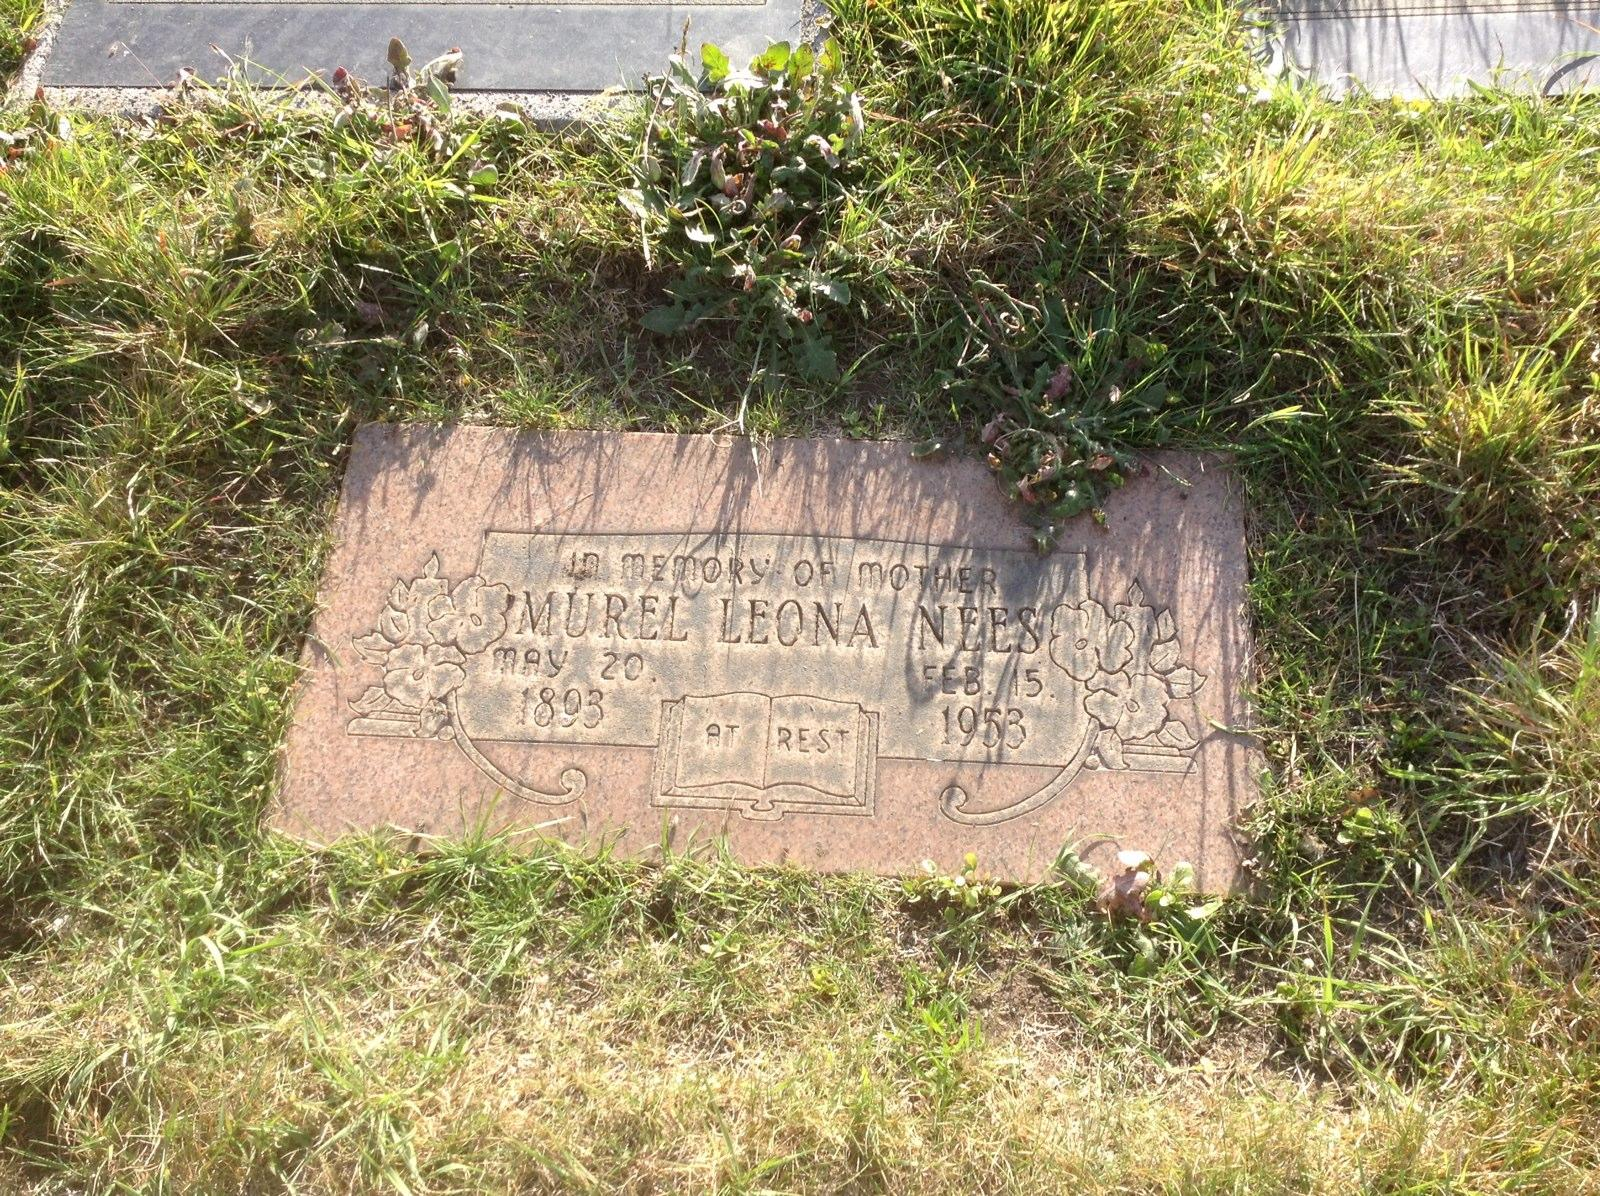flat: (249, 348, 1286, 922)
